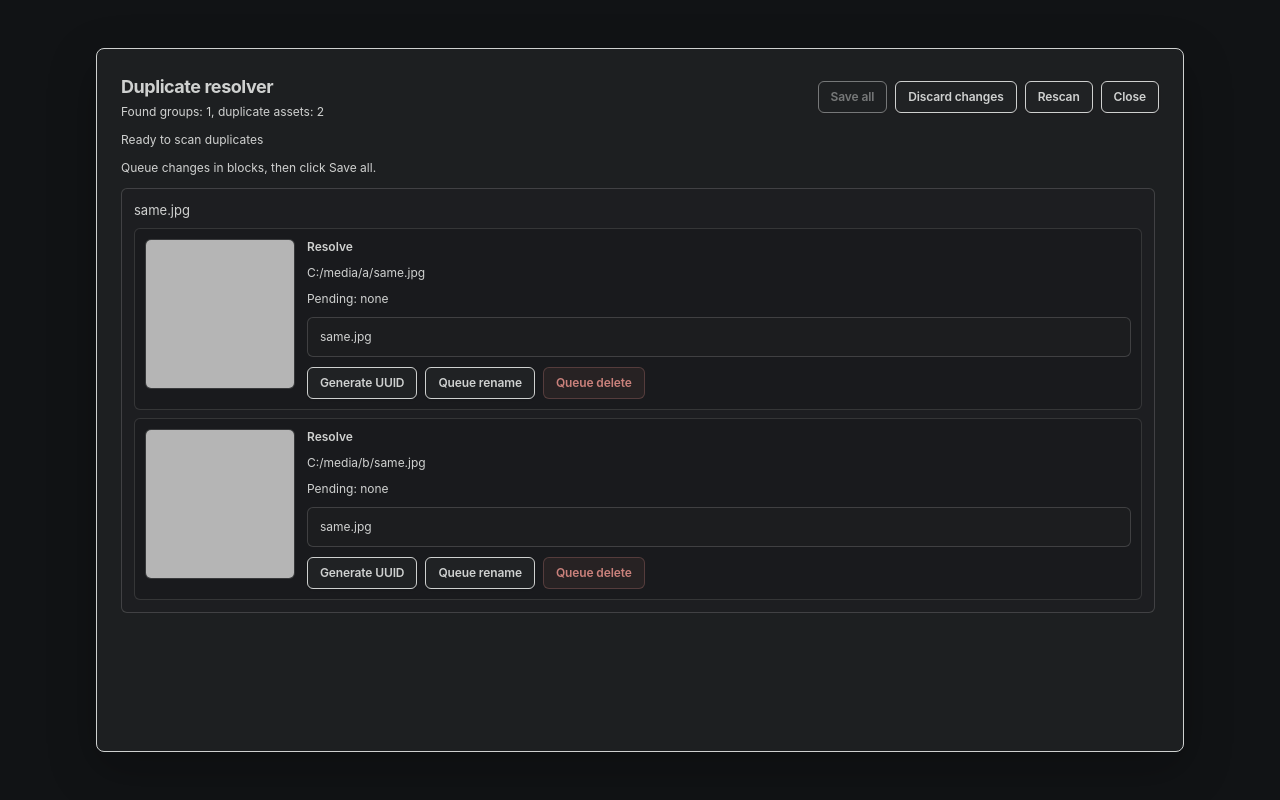
DuplicateResolverDialog › blocks save when queued changes still keep duplicate names
This screenshot has width=1280, height=800.
Click the button "Queue rename" below "C:/media/a/same.jpg" at (480, 383), box [425,367,535,399]
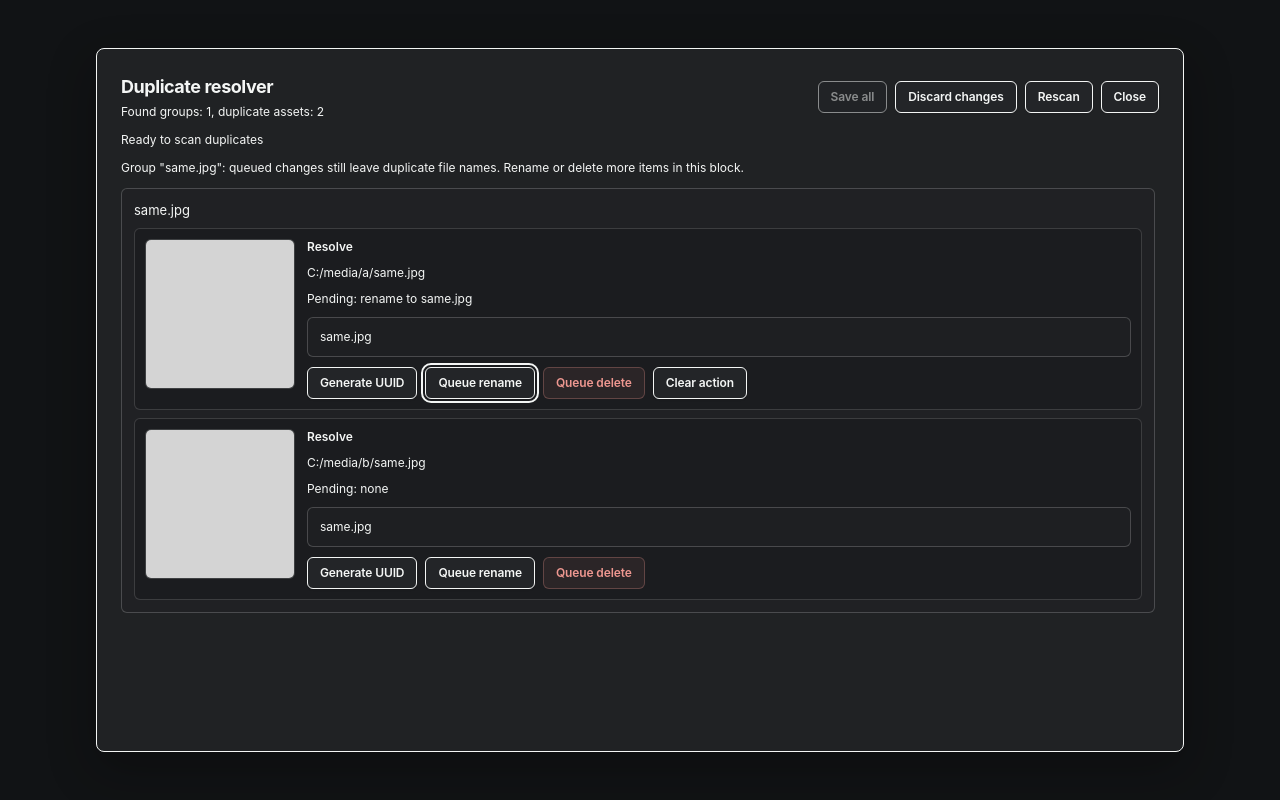
Expected: the button "Save all" is disabled, [818,80,887,112]
Expected: the text "still leave duplicate file names" is shown, [121,160,744,175]
